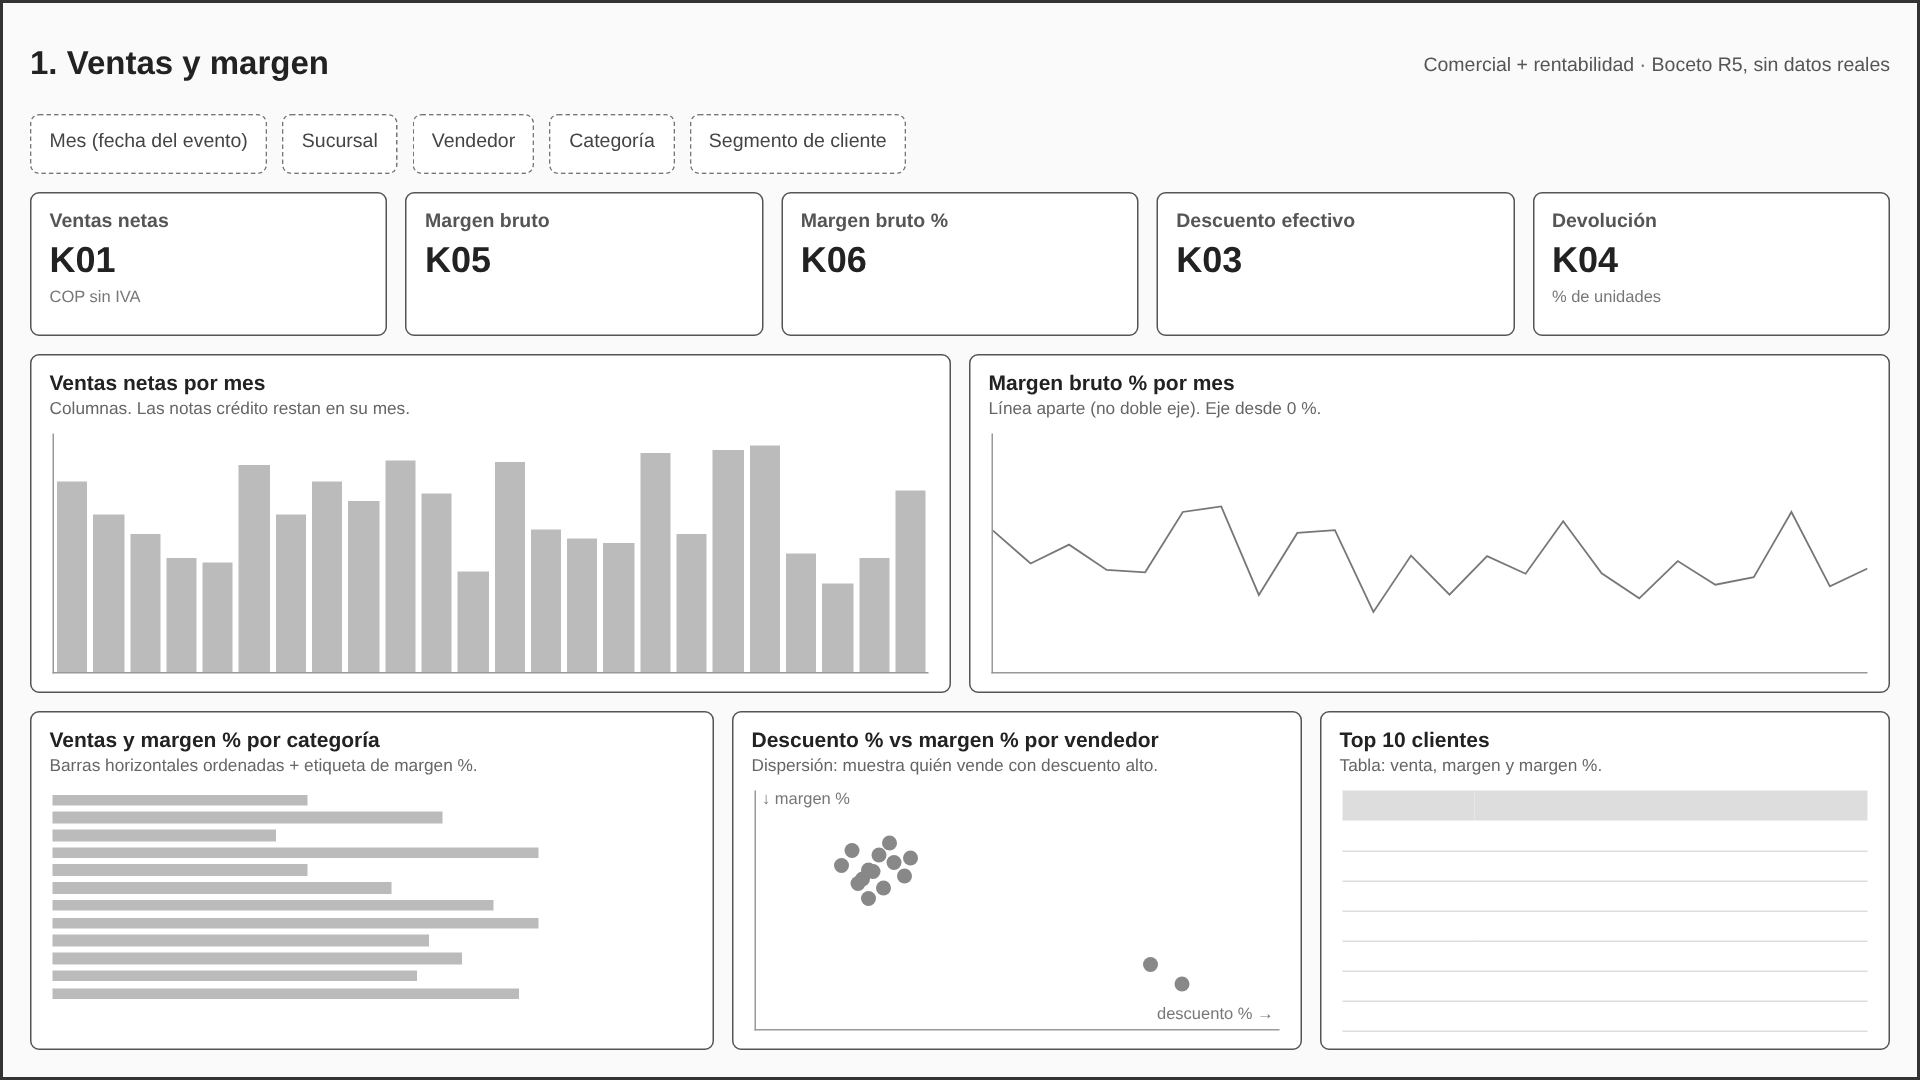

What the dashboard file says about the page in this screenshot:
{"tool":"powerbi","page":{"name":"1. Ventas y margen","canvas":[1920,1080],"ordinal":0},"visuals":[{"type":"slicer","fields":{"Values":["dwh dim_fecha.anio_mes"]},"box":[9.3,0,387.4,101.9],"z":0},{"type":"slicer","fields":{"Values":["dwh dim_sucursal.nombre"]},"box":[426,0,387.4,101.9],"z":1},{"type":"slicer","fields":{"Values":["dwh dim_vendedor.nombre"]},"box":[850.4,0,387.4,92.6],"z":2},{"type":"slicer","fields":{"Values":["dwh dim_producto.categoria"]},"box":[1274.9,0,387.4,92.6],"z":3},{"type":"cardVisual","fields":{"Data":["dwh fact_venta.K01 Ventas netas","dwh fact_venta.K05 Margen bruto","dwh fact_venta.K06 Margen bruto %","dwh fact_venta.K03 Descuento efectivo %","dwh fact_venta.K04 Tasa de devolucion %"]},"box":[9.3,112.7,1881.4,159],"z":4},{"type":"clusteredColumnChart","fields":{"Category":["dwh dim_fecha.anio_mes"],"Y":["dwh fact_venta.K01 Ventas netas"]},"box":[9.3,291.7,941.5,381.2],"z":5},{"type":"lineChart","fields":{"Category":["dwh dim_fecha.anio_mes"],"Y":["dwh fact_venta.K06 Margen bruto %"]},"box":[960,291.7,941.5,381.2],"z":6},{"type":"clusteredBarChart","fields":{"Category":["dwh dim_producto.categoria"],"Y":["dwh fact_venta.K01 Ventas netas"]},"box":[9.3,683.7,632.8,379.7],"z":7},{"type":"scatterChart","fields":{"Category":["dwh dim_vendedor.nombre"],"X":["dwh fact_venta.K03 Descuento efectivo %"],"Y":["dwh fact_venta.K06 Margen bruto %"]},"box":[642,684,308,380],"z":8},{"type":"tableEx","fields":{"Values":["dwh dim_cliente.nombre","dwh dim_cliente.segmento","dwh fact_venta.K01 Ventas netas","dwh fact_venta.K05 Margen bruto","dwh fact_venta.K06 Margen bruto %"]},"box":[960,684,941,380],"z":9}]}

Visuals, with their boxes in screenshot pixels (x1, y1, x2, y2), scaled from the page's 1920x1080 canvas onto the 1926x1086 screenshot:
slicer - dwh dim_fecha.anio_mes: locate(9, 0, 398, 102)
slicer - dwh dim_sucursal.nombre: locate(427, 0, 816, 102)
slicer - dwh dim_vendedor.nombre: locate(853, 0, 1242, 93)
slicer - dwh dim_producto.categoria: locate(1279, 0, 1667, 93)
cardVisual - dwh fact_venta.K01 Ventas netas x dwh fact_venta.K05 Margen bruto: locate(9, 113, 1897, 273)
clusteredColumnChart - dwh dim_fecha.anio_mes x dwh fact_venta.K01 Ventas netas: locate(9, 293, 954, 677)
lineChart - dwh dim_fecha.anio_mes x dwh fact_venta.K06 Margen bruto %: locate(963, 293, 1907, 677)
clusteredBarChart - dwh dim_producto.categoria x dwh fact_venta.K01 Ventas netas: locate(9, 687, 644, 1069)
scatterChart - dwh dim_vendedor.nombre x dwh fact_venta.K03 Descuento efectivo %: locate(644, 688, 953, 1070)
tableEx - dwh dim_cliente.nombre x dwh dim_cliente.segmento: locate(963, 688, 1907, 1070)
